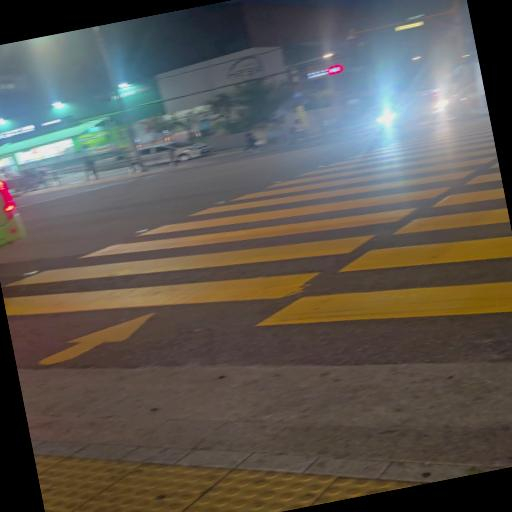yellow-crosswalk: (0, 107, 512, 426)
